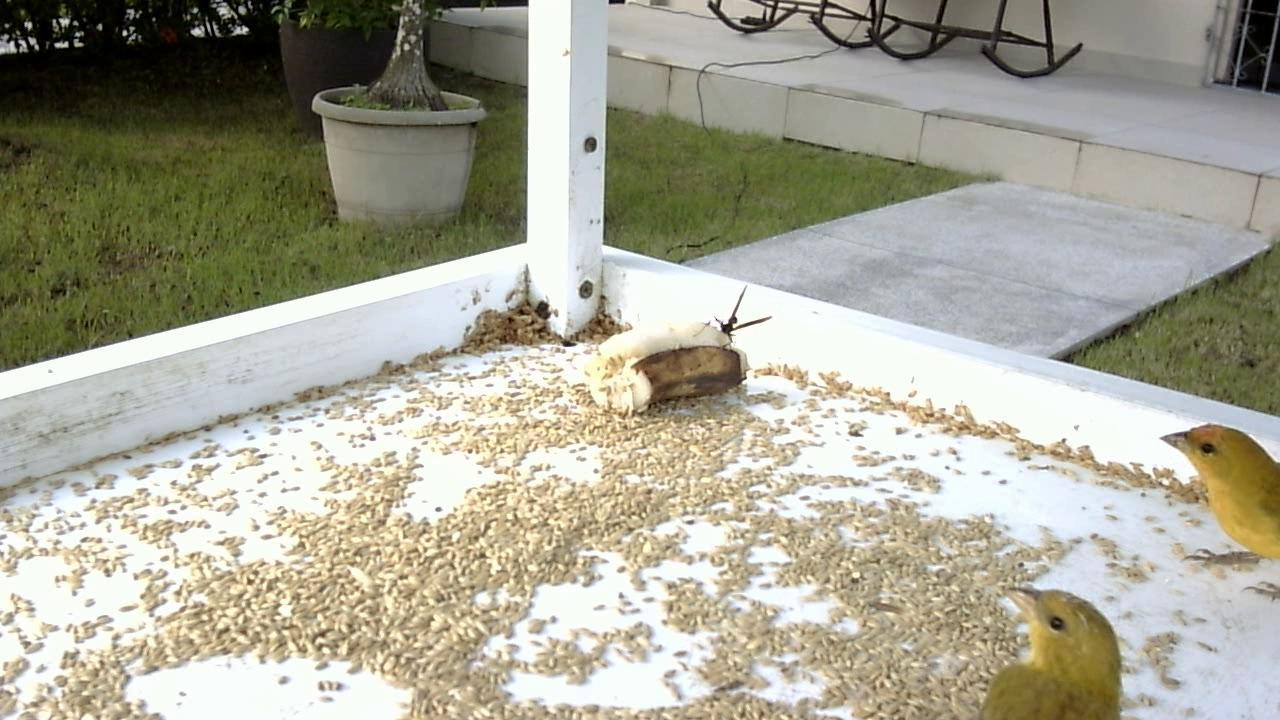canario_do_amazonas: (1153, 417, 1278, 597), (964, 582, 1127, 716)
